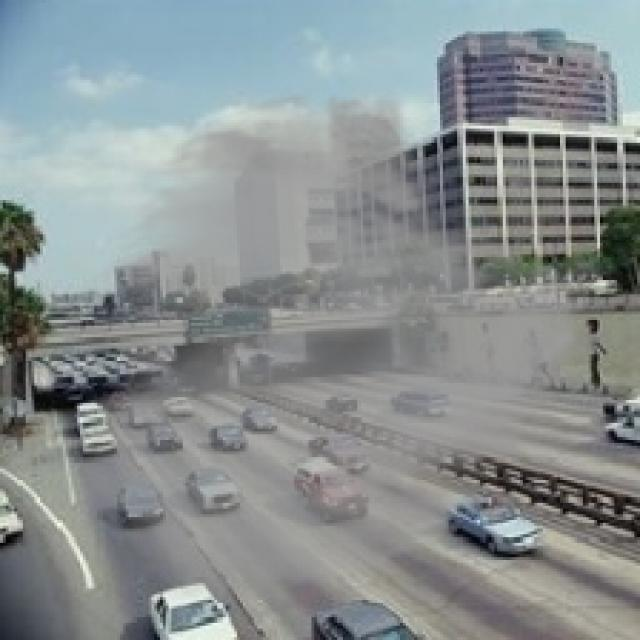smoke: (69, 89, 614, 608)
